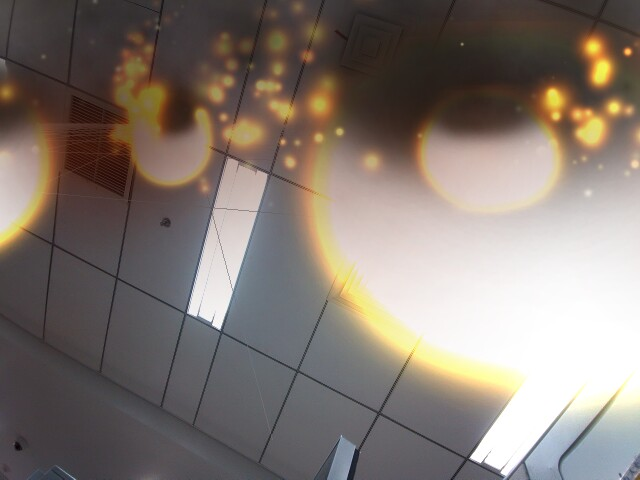fire: (305, 25, 636, 421), (416, 81, 568, 215), (0, 92, 58, 256), (125, 92, 214, 187)
